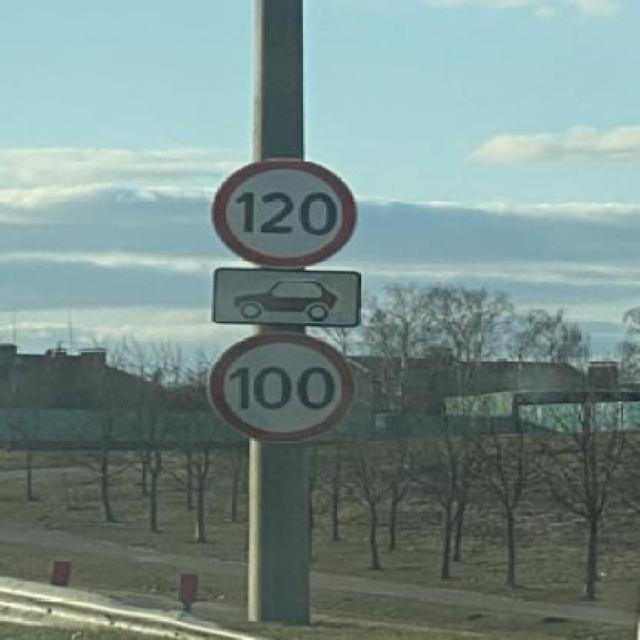forb_speed_over_100: (213, 334, 353, 443)
forb_speed_over_120: (218, 156, 358, 267)
